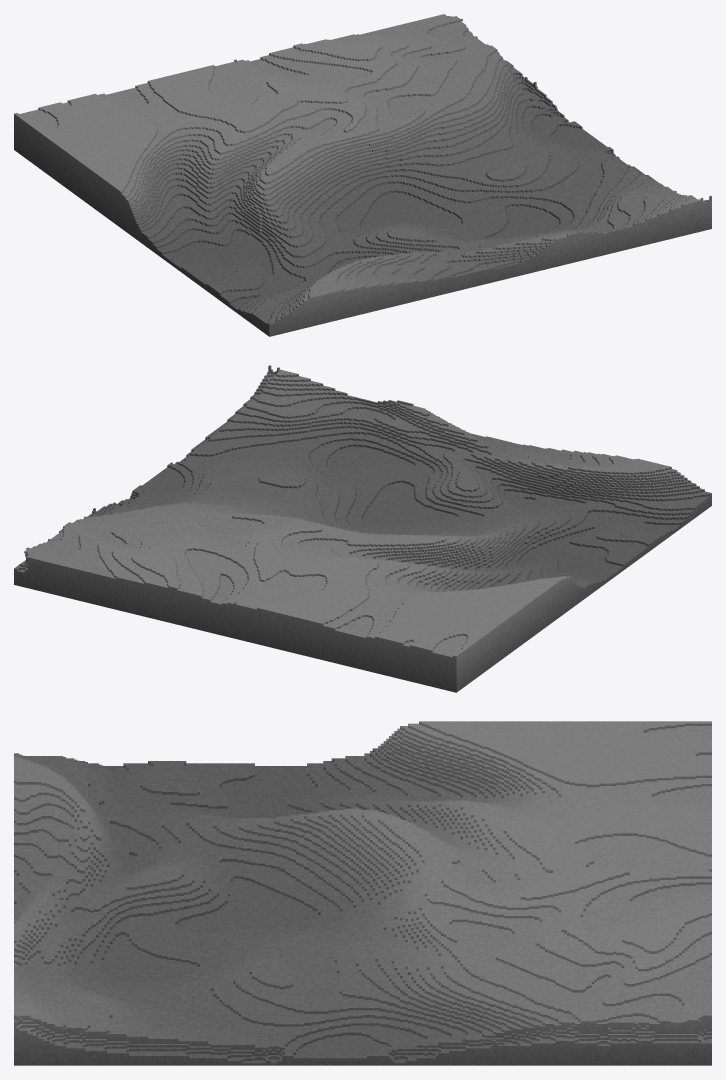
File: LunaGrande-4.obj
The picture shows the model from 3 angles, top to bottom: view 1: azimuth 30°, elevation 25°; view 2: azimuth 150°, elevation 25°; view 3: azimuth 270°, elevation 25°; orthographic projection. The views are drawn at different scales.
Bounding box in the file's own units: 25.5 × 2 × 25.5.
Materials: 1 (1 with a texture image).
